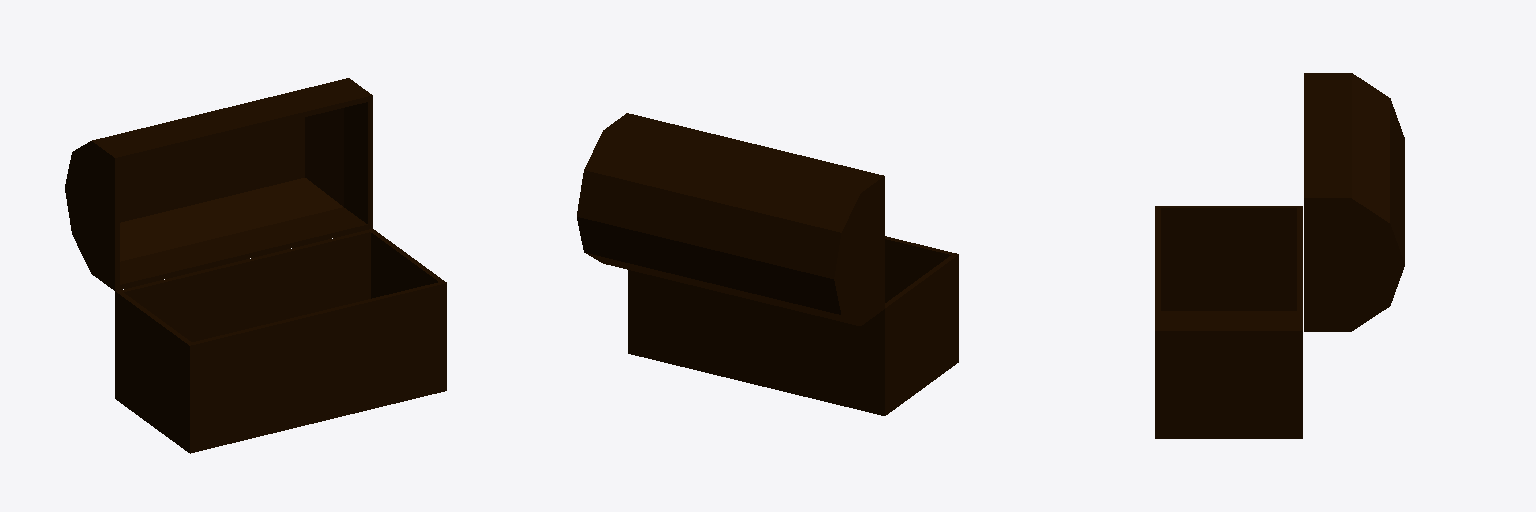
File: Chest.obj
3 views of the same model, side by side, from view 1: azimuth 30°, elevation 25°; view 2: azimuth 150°, elevation 25°; view 3: azimuth 270°, elevation 25° (orthographic).
Visible parts, largest first — view 1: Box001.001; view 2: Box001.001; view 3: Box001.001.
Boxes of the visible parts, x1,y1,x2,y2 form: Box001.001: [65, 78, 446, 453]; Box001.001: [577, 113, 958, 415]; Box001.001: [1155, 73, 1404, 438].
Size of the model in its own units: 5 by 4.47 by 4.21.